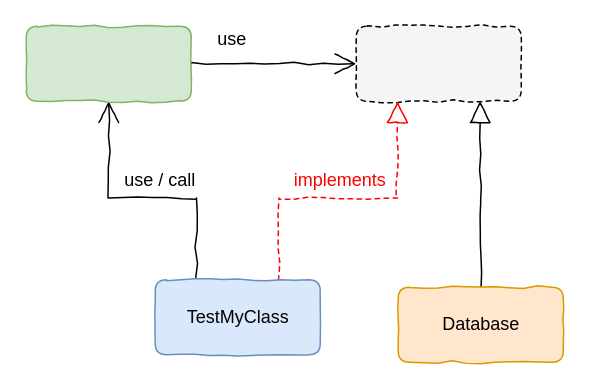
Image size: 590x389. Some labels were removed from this diagram. The shapes that lost their labels are listed below. From the top down, each one's box as (x1, y1, x2, y2) in pixels, then its label:
(25, 25, 191, 101): MyClass
(355, 25, 521, 101): IDatabase
